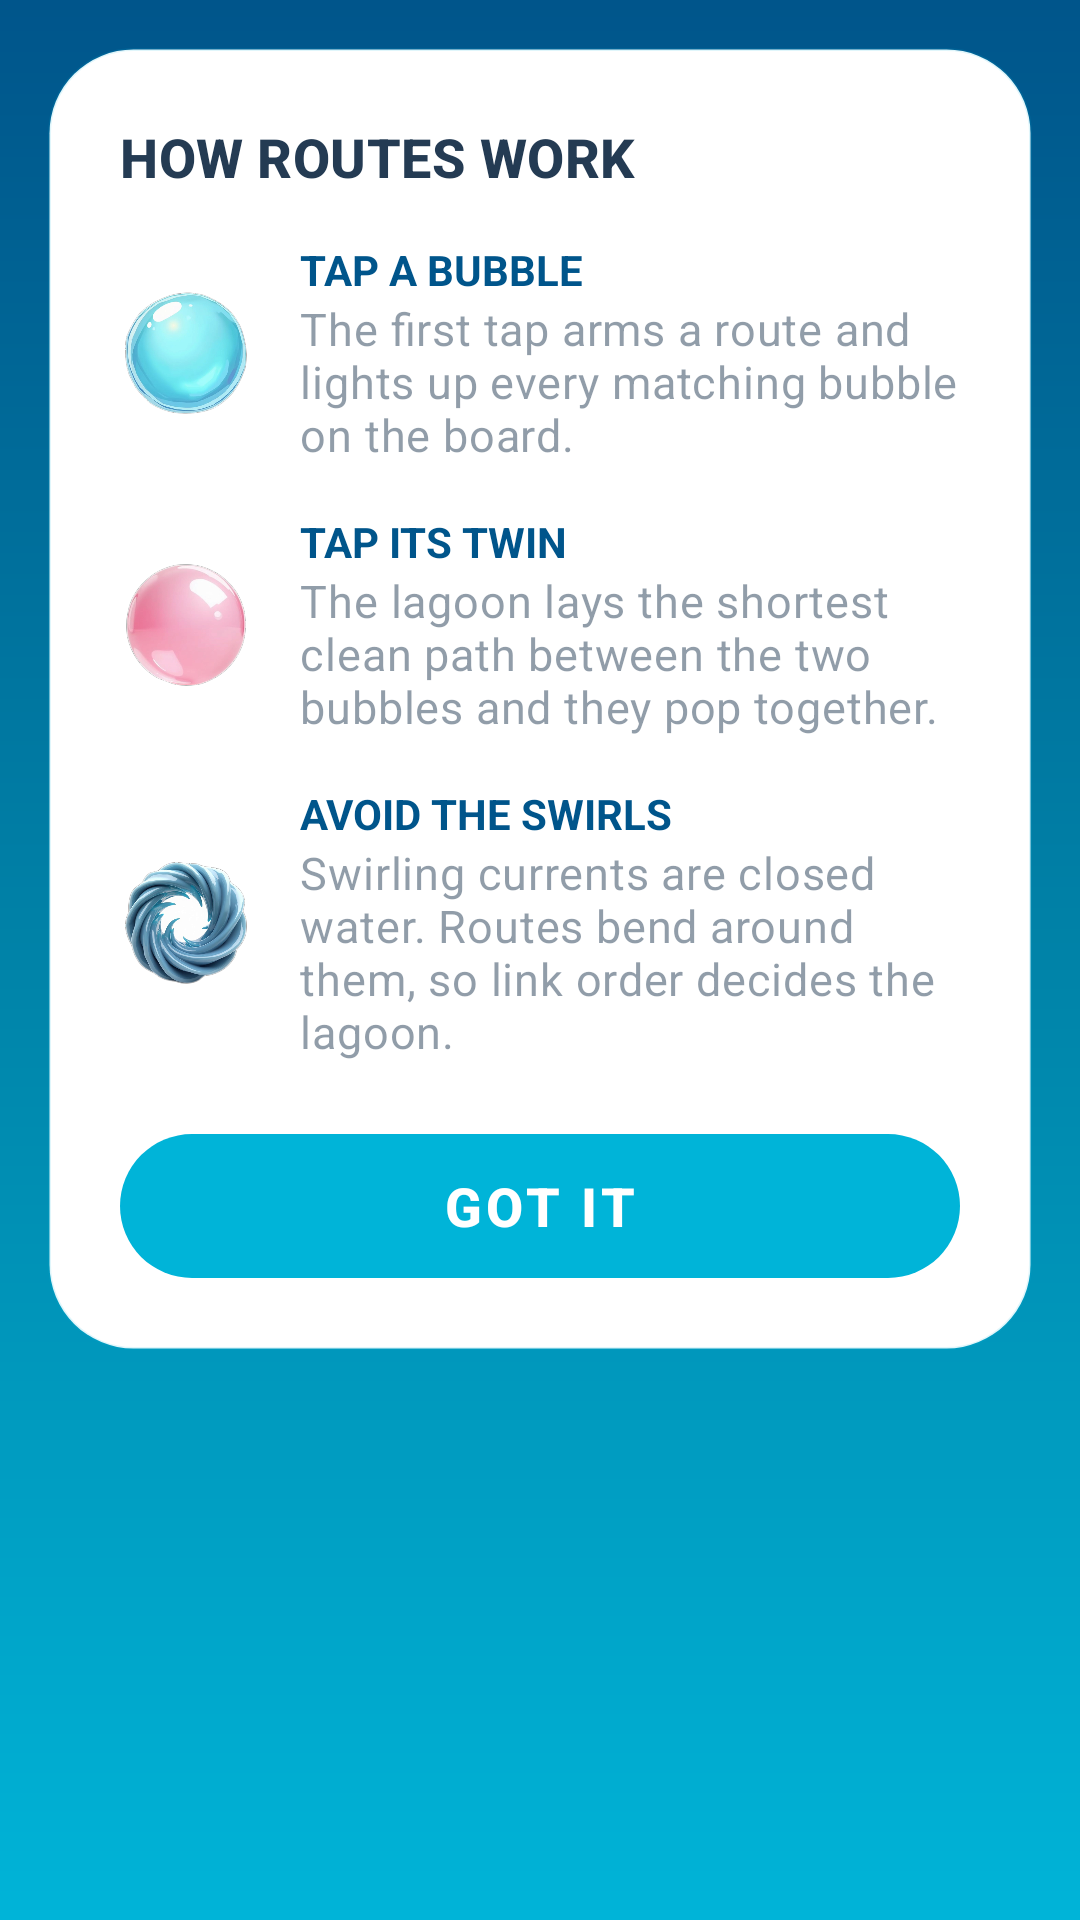

Where icons sit on this 1080 × 1920 app screen, as (x1, y1, x2, y2):
Cyan bubble: (125, 292, 247, 414)
Pink bubble: (126, 564, 246, 686)
